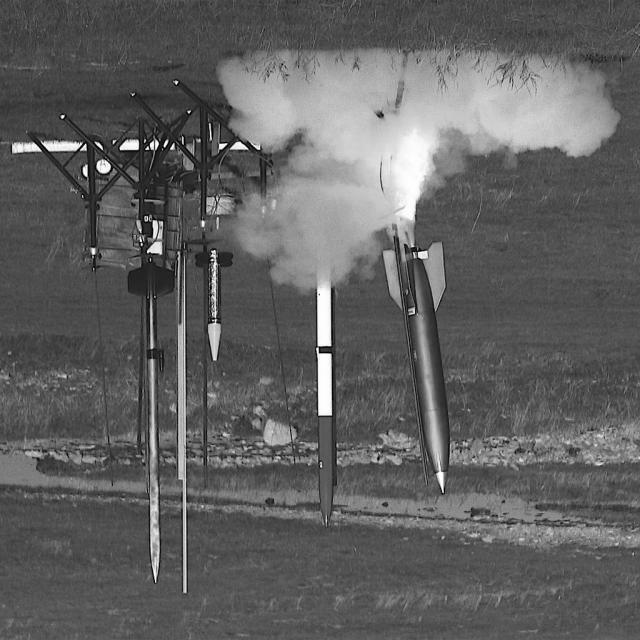missile: (380, 224, 458, 495), (142, 284, 164, 583), (314, 270, 336, 526), (194, 246, 231, 364)
